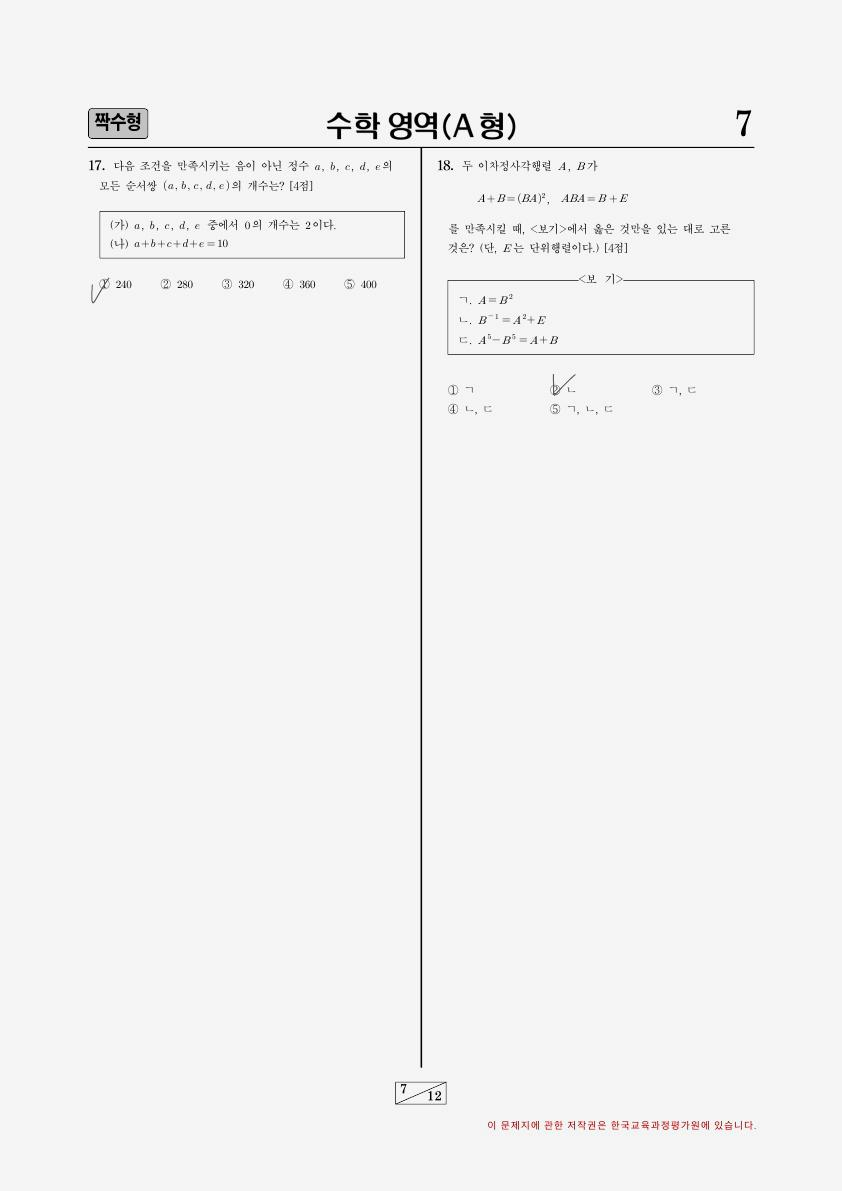question: (426, 152, 767, 432), (74, 151, 414, 319)
